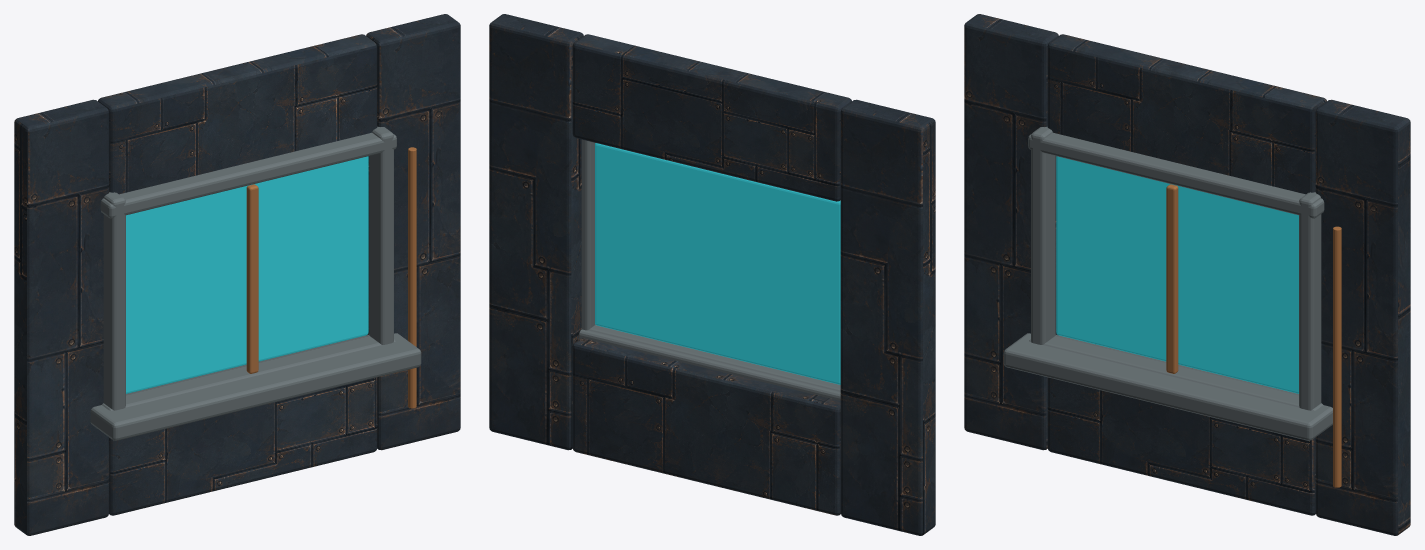
Rendered from APT_Wall_Window_Wide_300x270.glb.
The picture shows the model from 3 angles, left to right: view 1: azimuth 30°, elevation 25°; view 2: azimuth 150°, elevation 25°; view 3: azimuth 330°, elevation 25°; orthographic projection.
Visible parts, largest first — view 1: APT_Wall_Window_Wide_300x270_Glass, APT_Wall_Window_Wide_300x270_LeftPier, APT_Wall_Window_Wide_300x270_RightPier, APT_Wall_Window_Wide_300x270_Header, APT_Wall_Window_Wide_300x270_LowerWall, APT_Wall_Window_Wide_300x270_Sill, APT_Wall_Window_Wide_300x270_FrameRail_2.0700000000000003, APT_Wall_Window_Wide_300x270_FrameSide_0.925, APT_Wall_Window_Wide_300x270_FrameSide_-0.925, APT_Wall_Window_Wide_300x270_FrameRail_0.72, APT_Wall_Window_Wide_300x270_Mullion, APT_Wall_Window_Wide_300x270_Conduit; view 2: APT_Wall_Window_Wide_300x270_Glass, APT_Wall_Window_Wide_300x270_LeftPier, APT_Wall_Window_Wide_300x270_RightPier, APT_Wall_Window_Wide_300x270_LowerWall, APT_Wall_Window_Wide_300x270_Header, APT_Wall_Window_Wide_300x270_FrameSide_0.925, APT_Wall_Window_Wide_300x270_Sill, APT_Wall_Window_Wide_300x270_FrameRail_0.72; view 3: APT_Wall_Window_Wide_300x270_Glass, APT_Wall_Window_Wide_300x270_RightPier, APT_Wall_Window_Wide_300x270_LeftPier, APT_Wall_Window_Wide_300x270_Header, APT_Wall_Window_Wide_300x270_LowerWall, APT_Wall_Window_Wide_300x270_Sill, APT_Wall_Window_Wide_300x270_FrameRail_2.0700000000000003, APT_Wall_Window_Wide_300x270_FrameSide_-0.925, APT_Wall_Window_Wide_300x270_FrameSide_0.925, APT_Wall_Window_Wide_300x270_FrameRail_0.72, APT_Wall_Window_Wide_300x270_Mullion, APT_Wall_Window_Wide_300x270_Conduit.
Part boxes in pixels (box(x1,y1,x2,y2)): APT_Wall_Window_Wide_300x270_Glass: box(126, 156, 368, 393); APT_Wall_Window_Wide_300x270_LeftPier: box(14, 99, 109, 535); APT_Wall_Window_Wide_300x270_RightPier: box(366, 14, 460, 450); APT_Wall_Window_Wide_300x270_Header: box(98, 34, 377, 194); APT_Wall_Window_Wide_300x270_LowerWall: box(109, 377, 377, 515); APT_Wall_Window_Wide_300x270_Sill: box(90, 333, 421, 440); APT_Wall_Window_Wide_300x270_FrameRail_2.0700000000000003: box(100, 132, 396, 218); APT_Wall_Window_Wide_300x270_FrameSide_0.925: box(369, 126, 393, 344); APT_Wall_Window_Wide_300x270_FrameSide_-0.925: box(103, 192, 125, 410); APT_Wall_Window_Wide_300x270_FrameRail_0.72: box(102, 335, 395, 410); APT_Wall_Window_Wide_300x270_Mullion: box(246, 184, 258, 373); APT_Wall_Window_Wide_300x270_Conduit: box(408, 147, 416, 408); APT_Wall_Window_Wide_300x270_Glass: box(595, 143, 840, 384); APT_Wall_Window_Wide_300x270_LeftPier: box(840, 99, 935, 535); APT_Wall_Window_Wide_300x270_RightPier: box(489, 14, 583, 450); APT_Wall_Window_Wide_300x270_LowerWall: box(572, 338, 840, 515); APT_Wall_Window_Wide_300x270_Header: box(572, 34, 851, 201); APT_Wall_Window_Wide_300x270_FrameSide_0.925: box(581, 139, 595, 330); APT_Wall_Window_Wide_300x270_Sill: box(579, 329, 840, 400); APT_Wall_Window_Wide_300x270_FrameRail_0.72: box(588, 325, 840, 391); APT_Wall_Window_Wide_300x270_Glass: box(1056, 156, 1298, 393); APT_Wall_Window_Wide_300x270_RightPier: box(1315, 99, 1410, 535); APT_Wall_Window_Wide_300x270_LeftPier: box(964, 14, 1058, 450); APT_Wall_Window_Wide_300x270_Header: box(1047, 34, 1326, 194); APT_Wall_Window_Wide_300x270_LowerWall: box(1047, 377, 1315, 515); APT_Wall_Window_Wide_300x270_Sill: box(1003, 333, 1332, 440); APT_Wall_Window_Wide_300x270_FrameRail_2.0700000000000003: box(1028, 132, 1324, 218); APT_Wall_Window_Wide_300x270_FrameSide_-0.925: box(1031, 126, 1055, 344); APT_Wall_Window_Wide_300x270_FrameSide_0.925: box(1299, 192, 1321, 410); APT_Wall_Window_Wide_300x270_FrameRail_0.72: box(1029, 335, 1322, 410); APT_Wall_Window_Wide_300x270_Mullion: box(1166, 184, 1178, 373); APT_Wall_Window_Wide_300x270_Conduit: box(1333, 226, 1341, 487).
Size of the model in its own units: 3 by 2.7 by 0.46.
Materials: 4 (1 with a texture image).
